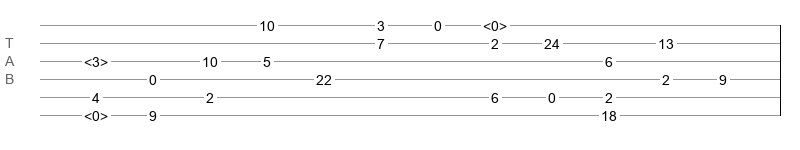0: (149, 72, 157, 82), (434, 18, 442, 28), (548, 90, 556, 100)
10: (202, 54, 218, 64), (259, 18, 275, 28)
13: (658, 36, 674, 46)
18: (601, 108, 617, 118)
2: (206, 90, 214, 100), (491, 36, 499, 46), (605, 90, 613, 100), (662, 72, 670, 82)
22: (316, 72, 332, 82)
24: (544, 36, 560, 46)
3: (377, 18, 385, 28)
4: (92, 90, 100, 100)
5: (263, 54, 271, 64)
6: (491, 90, 499, 100), (605, 54, 613, 64)
7: (377, 36, 385, 46)
9: (149, 108, 157, 118), (719, 72, 727, 82)
harmonic: (84, 108, 108, 118), (84, 54, 108, 64), (483, 18, 507, 28)
